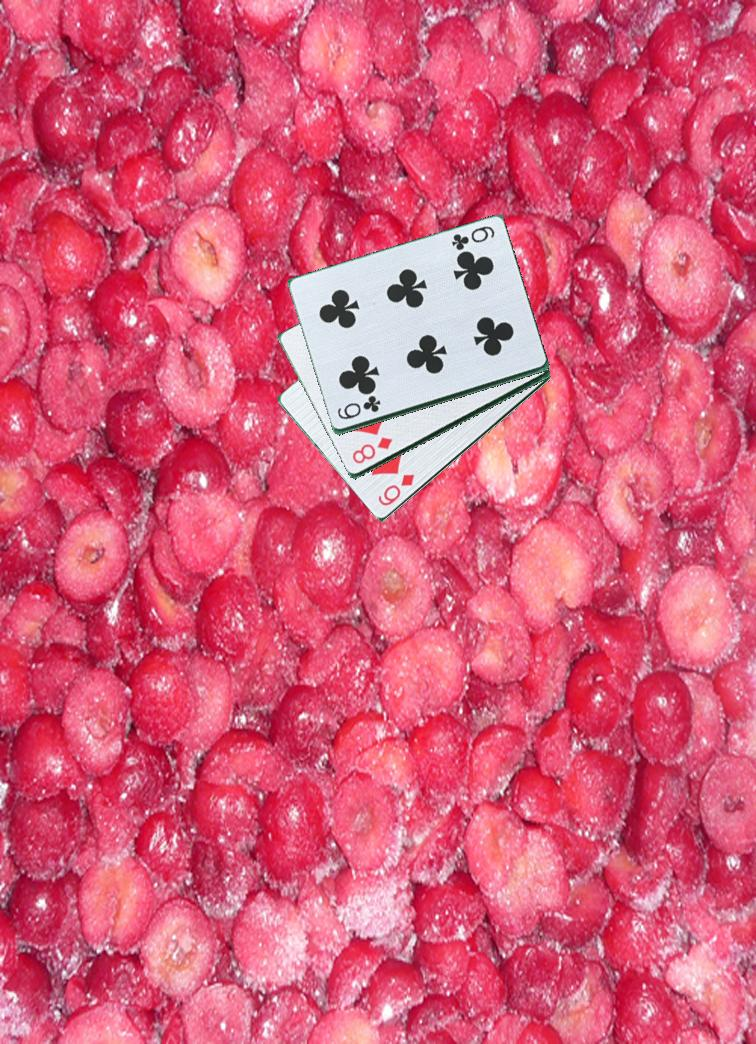6c: (447, 223, 505, 255), (334, 396, 383, 423)
6d: (374, 471, 418, 510)
8d: (347, 434, 395, 471)
